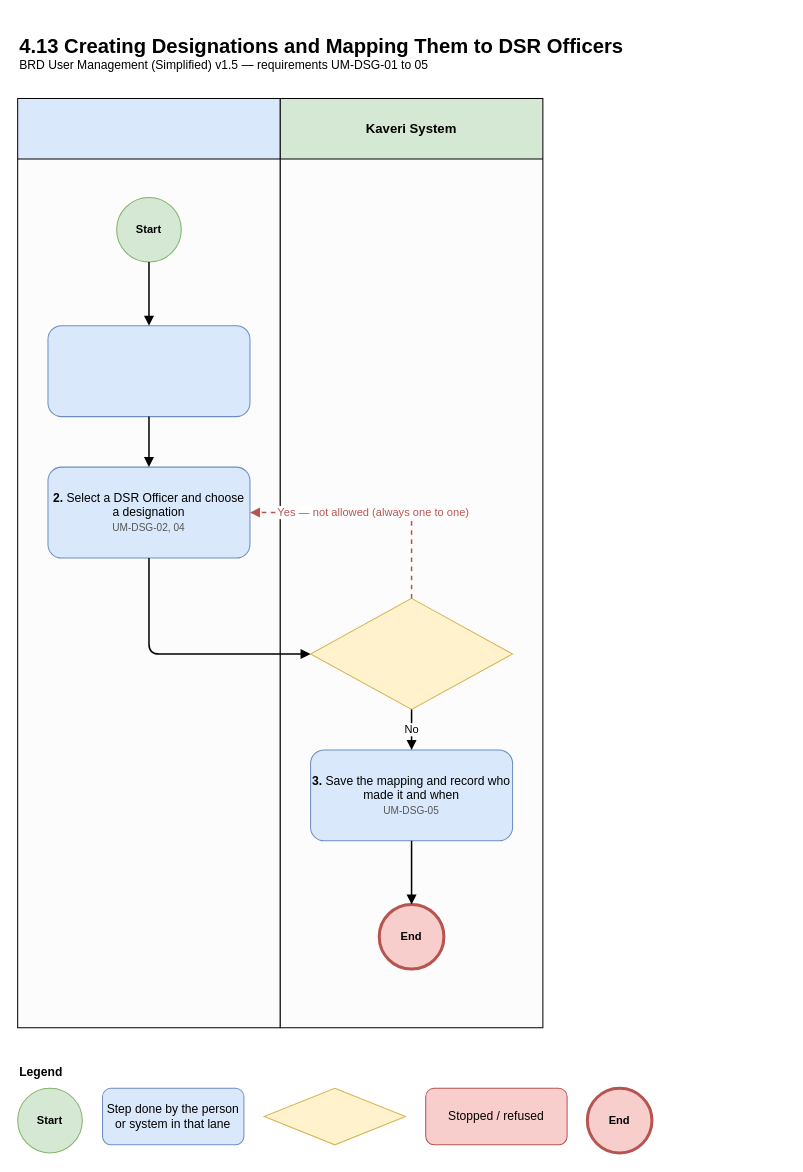
This 803x1172 diagram has some shape labels left out. The shapes that lost their labels are listed below. From the top down, each one's box as (x1, y1, x2, y2) in pixels, then its label:
(47, 325, 250, 417): 1. Add or change a designation (code and name); enable or disable it UM-DSG-01
(17, 97, 280, 1028): Authorised Administrator
(310, 597, 513, 710): Officer or designation already mapped? UM-DSG-03
(263, 1087, 406, 1145): Check / choice
